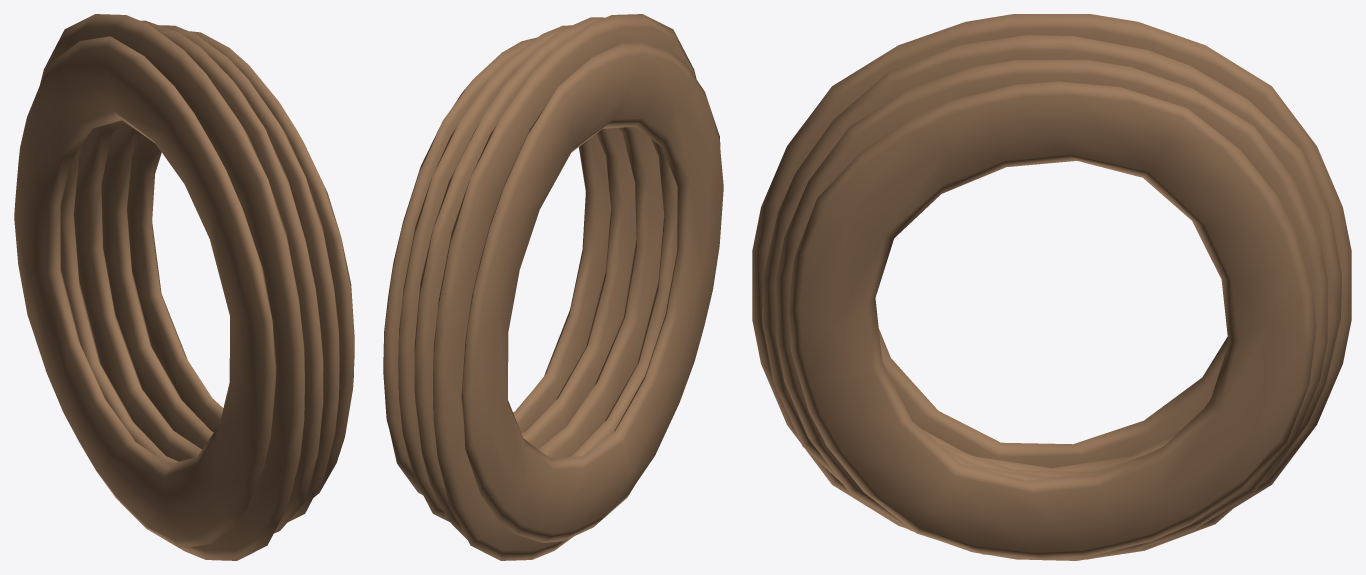
The model's file is Rope.fbx.
The picture shows the model from 3 angles, left to right: view 1: azimuth 30°, elevation 25°; view 2: azimuth 150°, elevation 25°; view 3: azimuth 270°, elevation 25°; orthographic projection. The views are drawn at different scales.
Parts seen in each view (by area): view 1: Cube; view 2: Cube; view 3: Cube.
Boxes of the visible parts, x1,y1,x2,y2 form: Cube: (14,14,354,560); Cube: (383,14,723,560); Cube: (752,14,1351,560).
Bounding box in the file's own units: 55.85 × 260 × 260.
